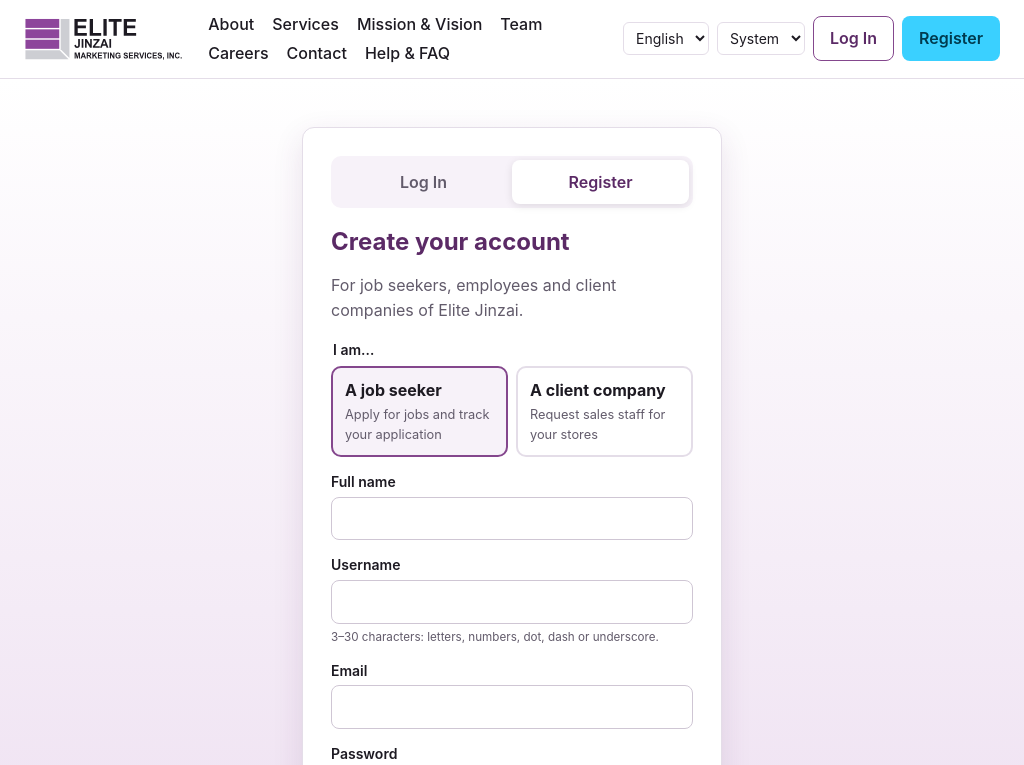
it: registration rejects mismatched passwords
Type "Juan Cruz" into the field labelled "Full name" at [512, 518], box x1=331 y1=497 x2=693 y2=540
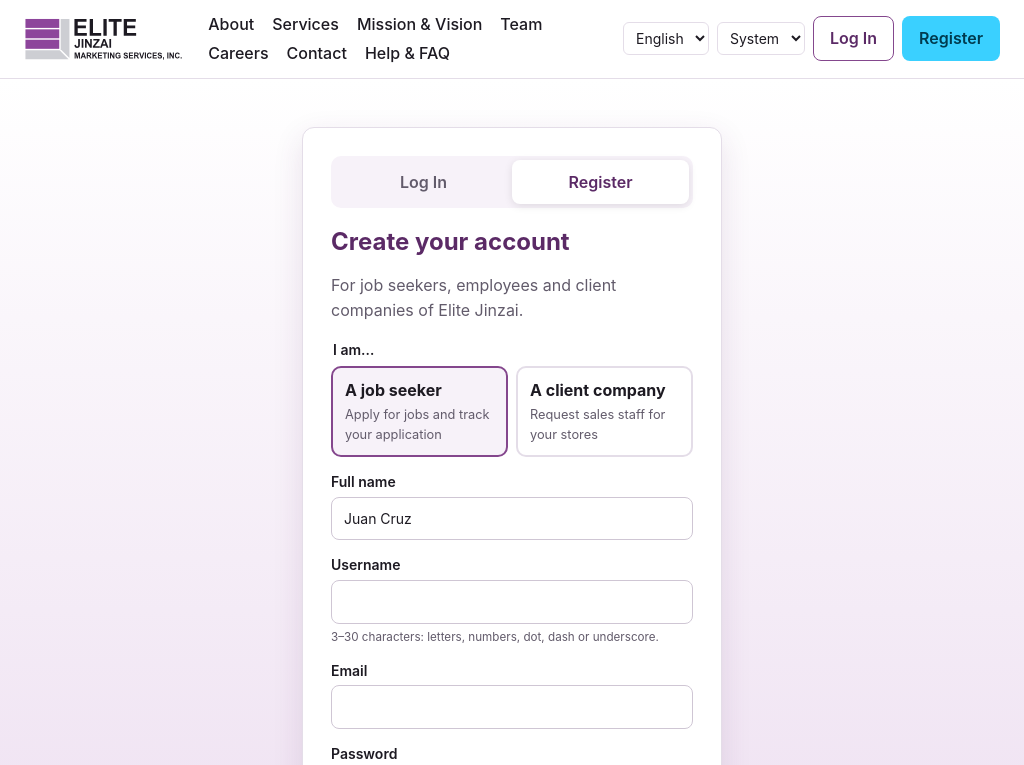
Type "juan" into the field labelled "Username" at [512, 602], box x1=331 y1=580 x2=693 y2=624
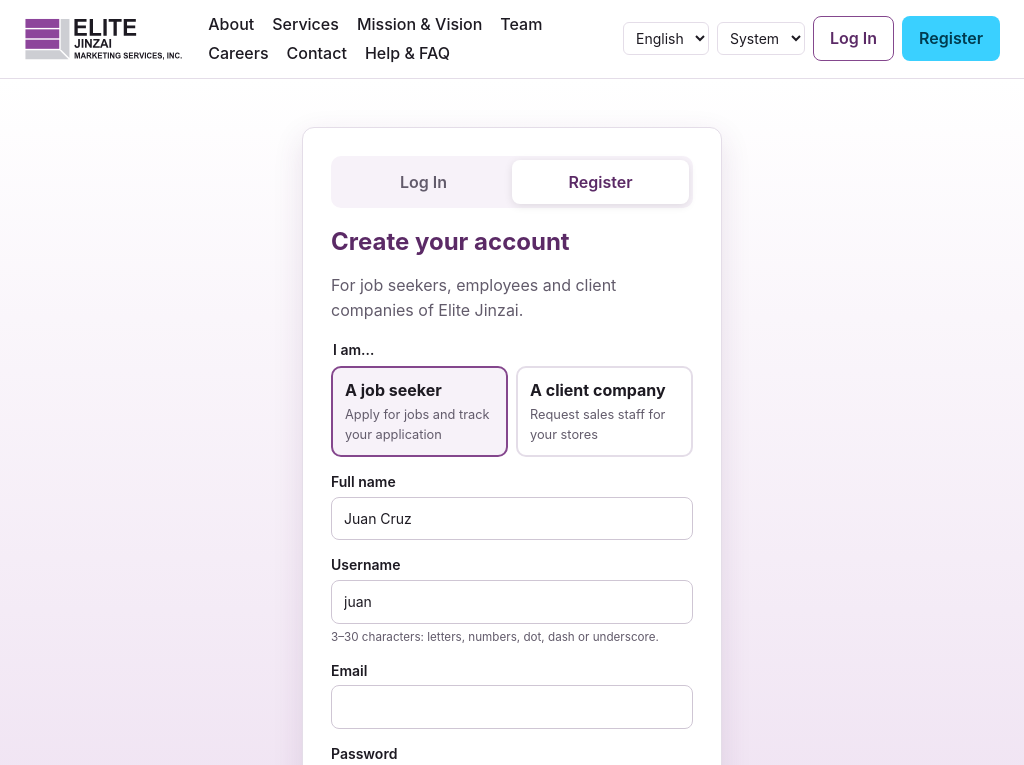
Type "juan@example.com" into the field labelled "Email" at [512, 707], box x1=331 y1=685 x2=693 y2=729
(page scrolled)
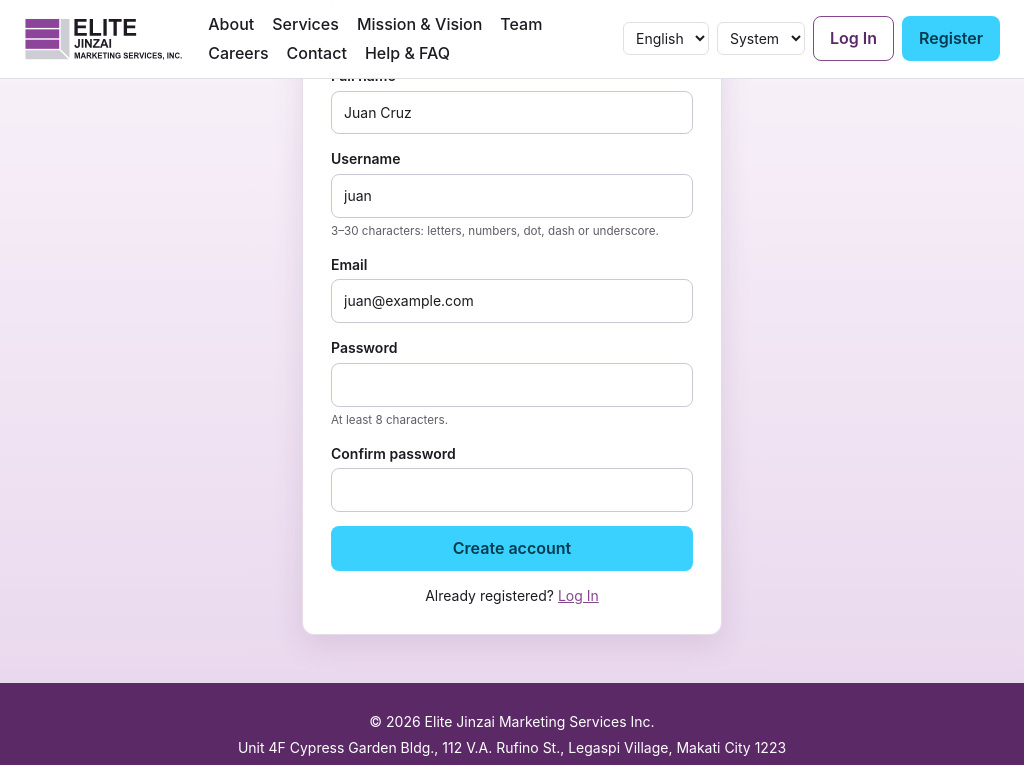
Type "secret123" into the password field labelled "Password At least 8 characters." at [512, 385], box x1=331 y1=363 x2=693 y2=406
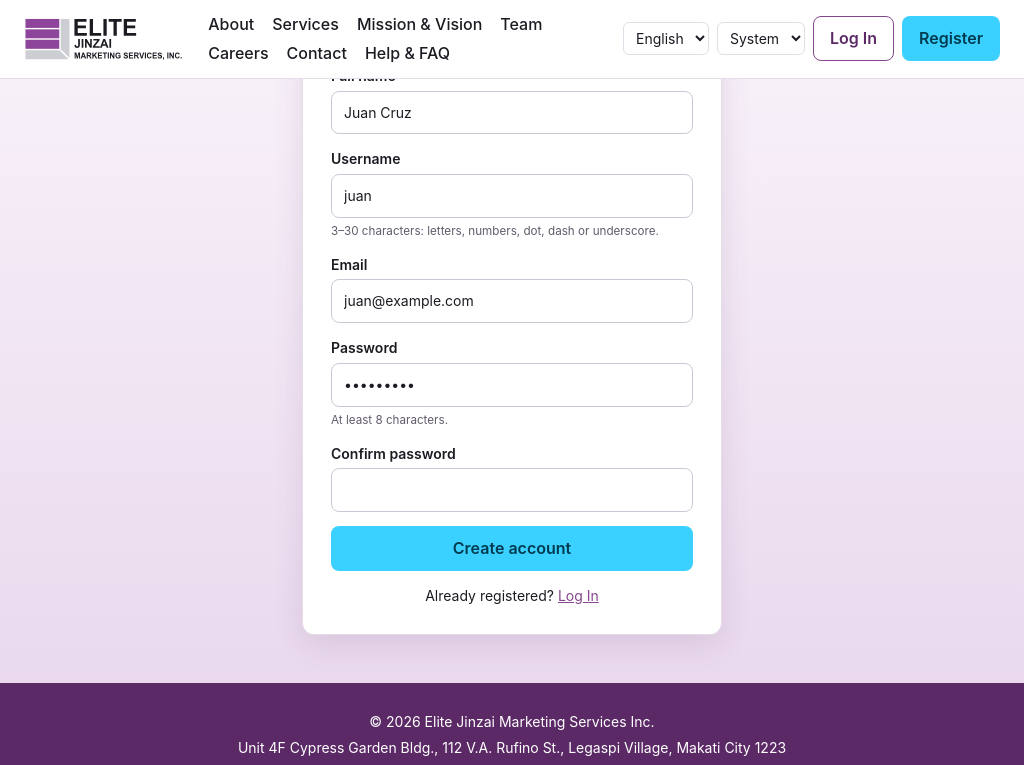
Type "different1" into the password field labelled "Confirm password" at [512, 490], box x1=331 y1=468 x2=693 y2=512
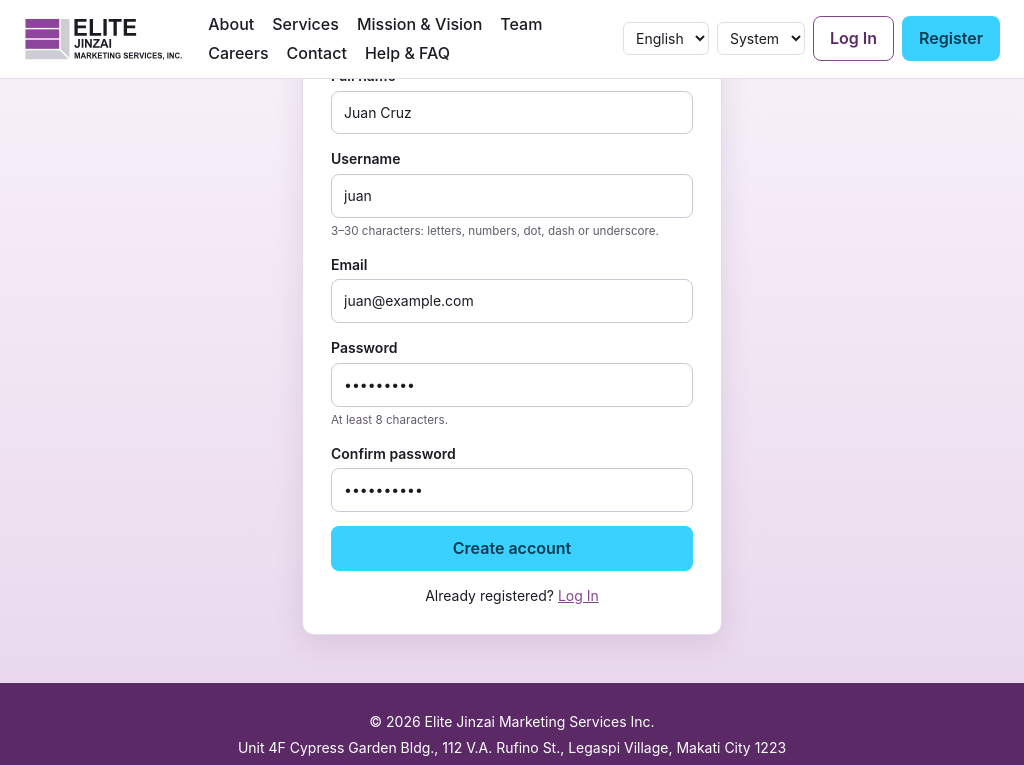
Click the button "Create account" at [512, 548], box x1=331 y1=526 x2=693 y2=571
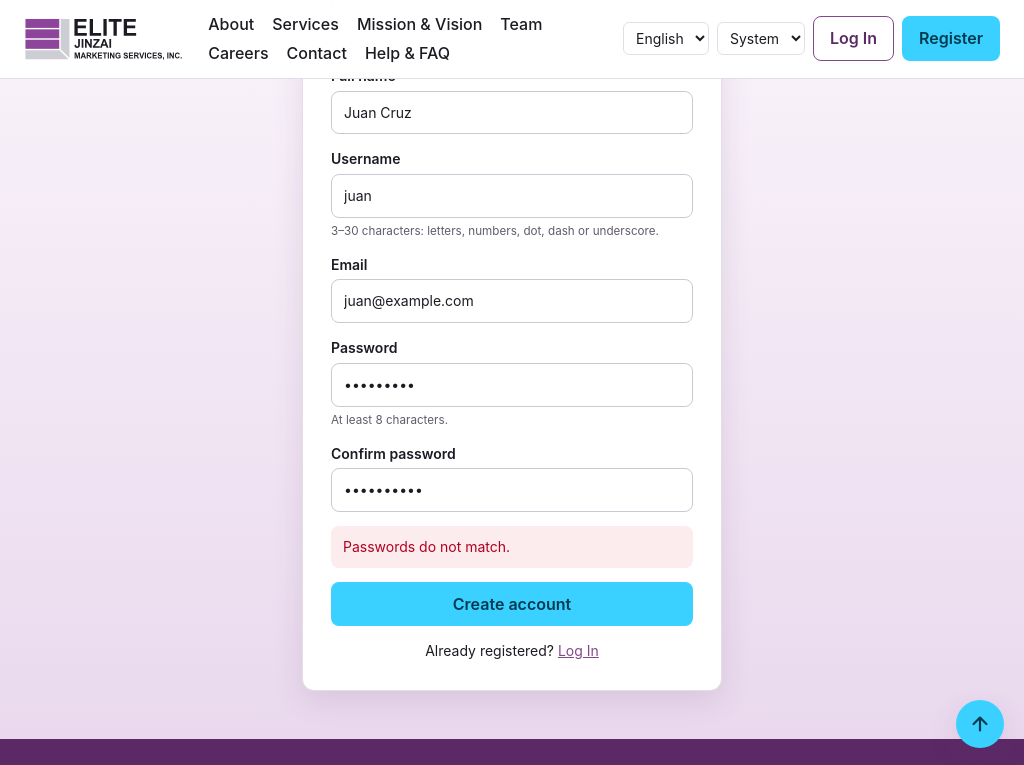
Result: the message reads "Passwords do not match." at x1=343 y1=538 x2=510 y2=555
